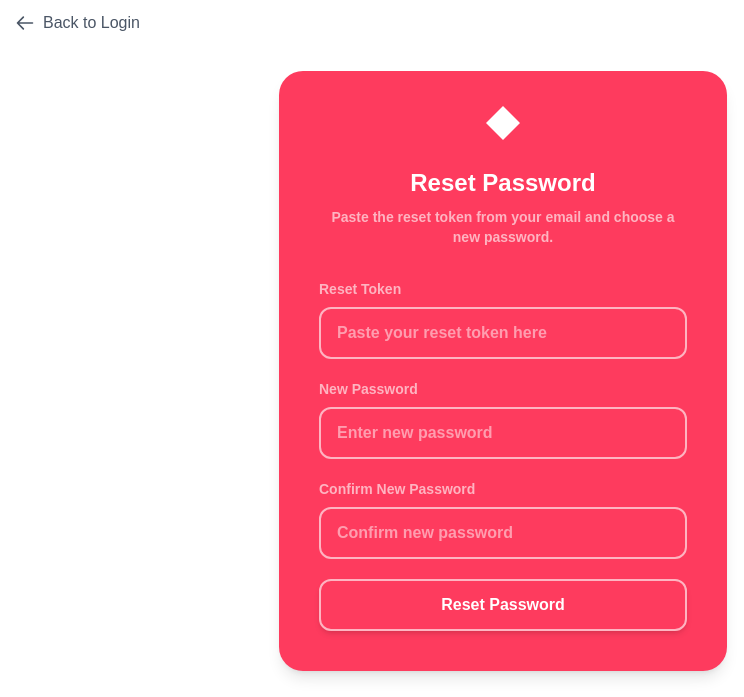
it: ResetPasswordPage › TC-098 [S-01]: on success, sends a trimmed token and shows the confirmation with a Go to Login link
The width and height of the screenshot is (744, 697).
Type "  abc123token  " into the field labelled "Reset Token" at (503, 333), box [319,307,687,359]
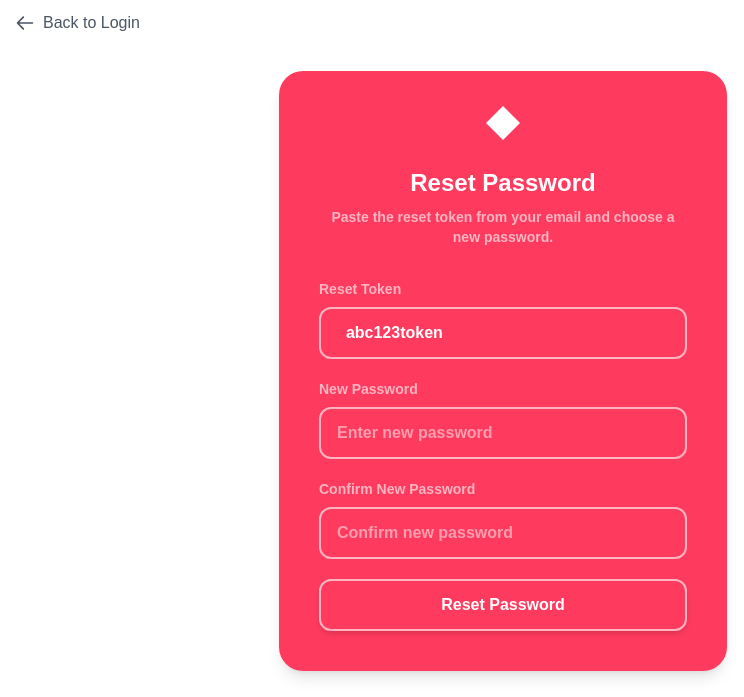
Type "NewValid123!" into the password field labelled "New Password" at (503, 433), box [319,407,687,459]
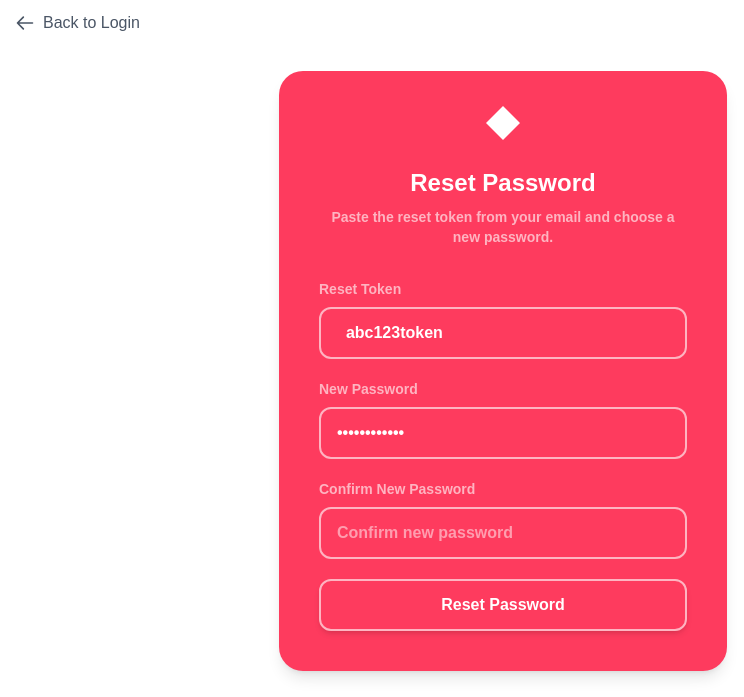
Type "NewValid123!" into the password field labelled "Confirm New Password" at (503, 533), box [319,507,687,559]
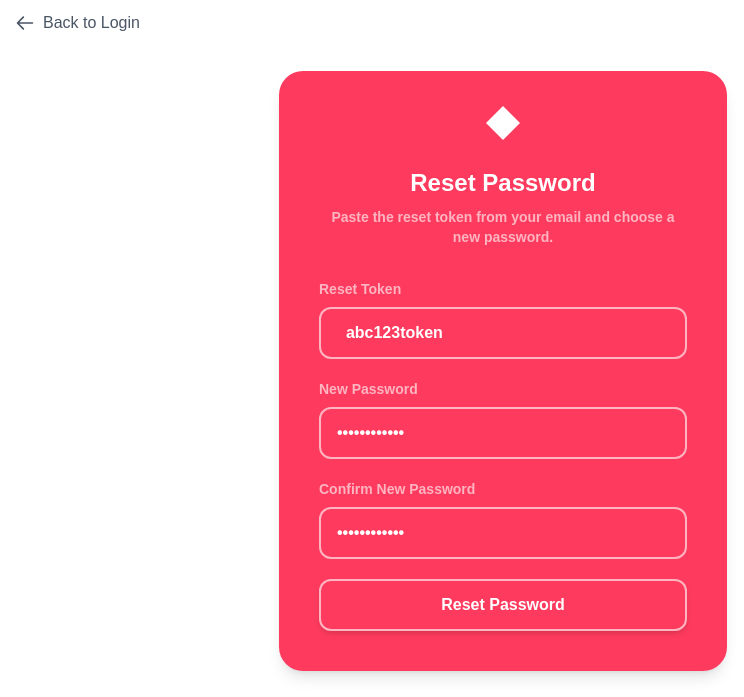
Click the button "Reset Password" at (503, 605), box [319,579,687,631]
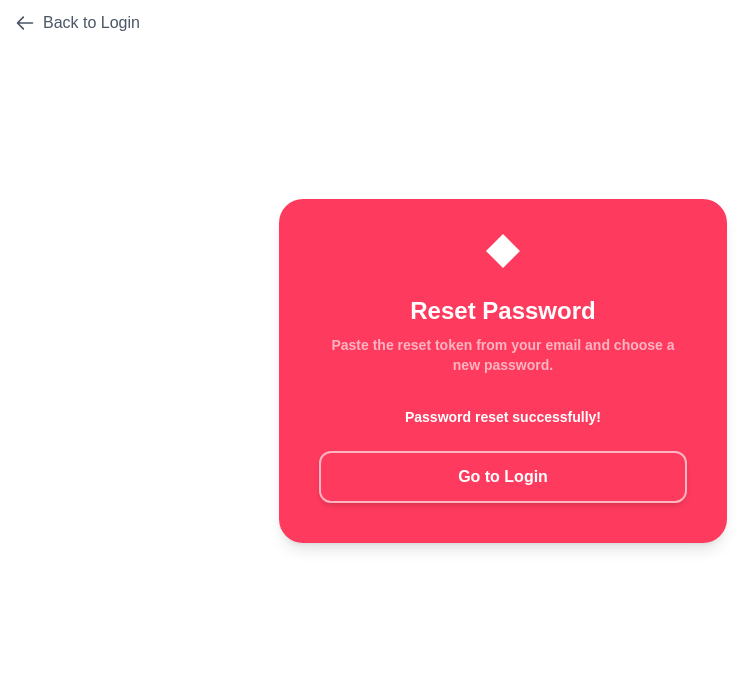
Expected: the text "Password reset successfully!" is shown, [405,409,601,425]
